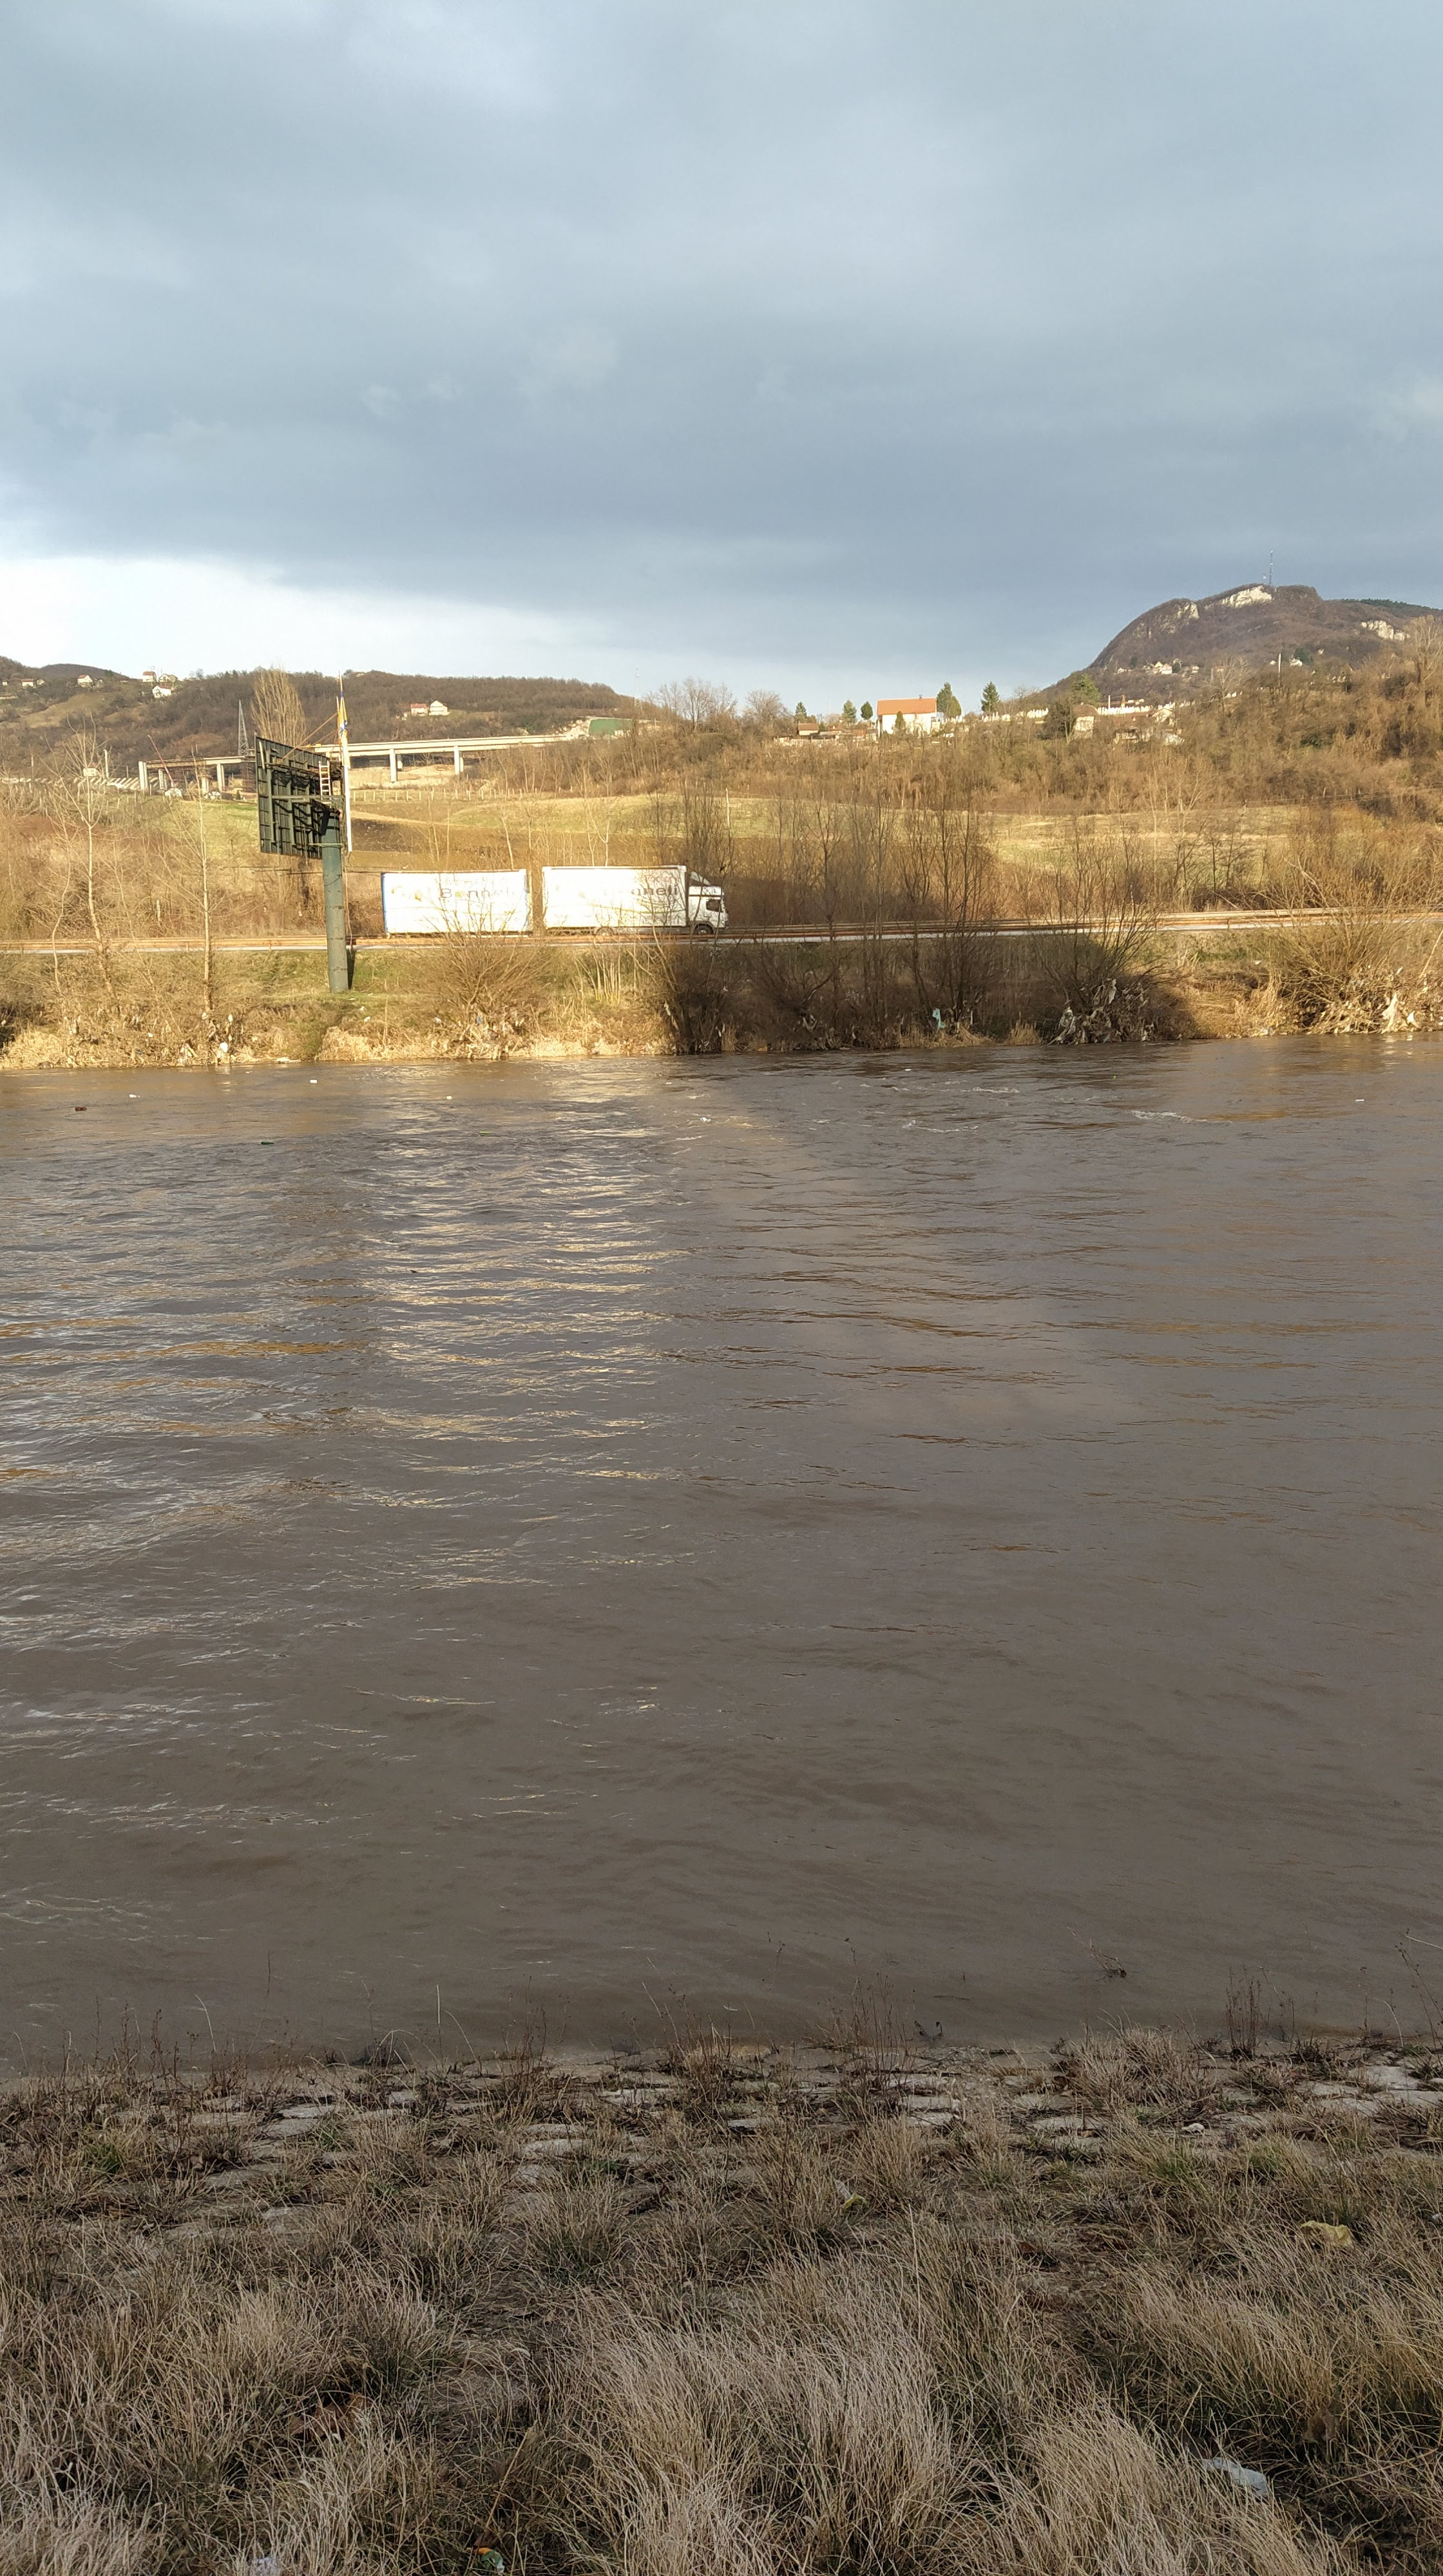Plastic Bottle: (74, 1106, 85, 1111), (260, 1141, 274, 1145), (129, 1093, 138, 1097), (478, 1131, 487, 1134), (310, 1079, 317, 1083), (1356, 1099, 1363, 1100), (907, 1069, 912, 1070)
